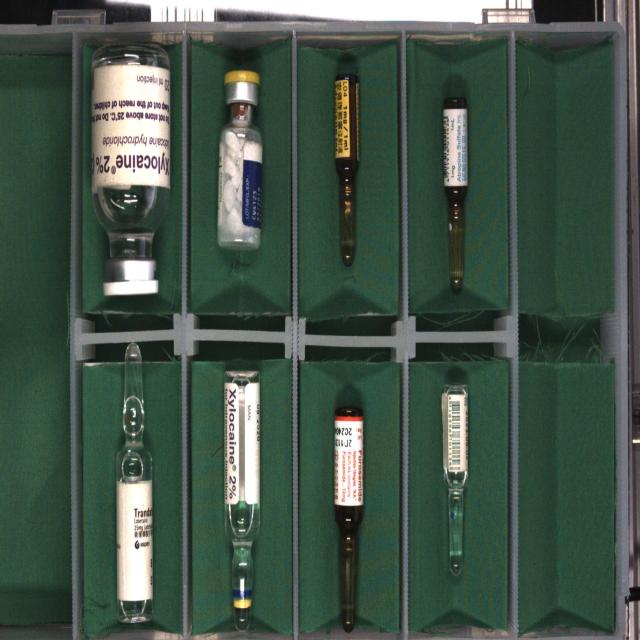Vials: (90, 44, 171, 295), (218, 70, 263, 249)
